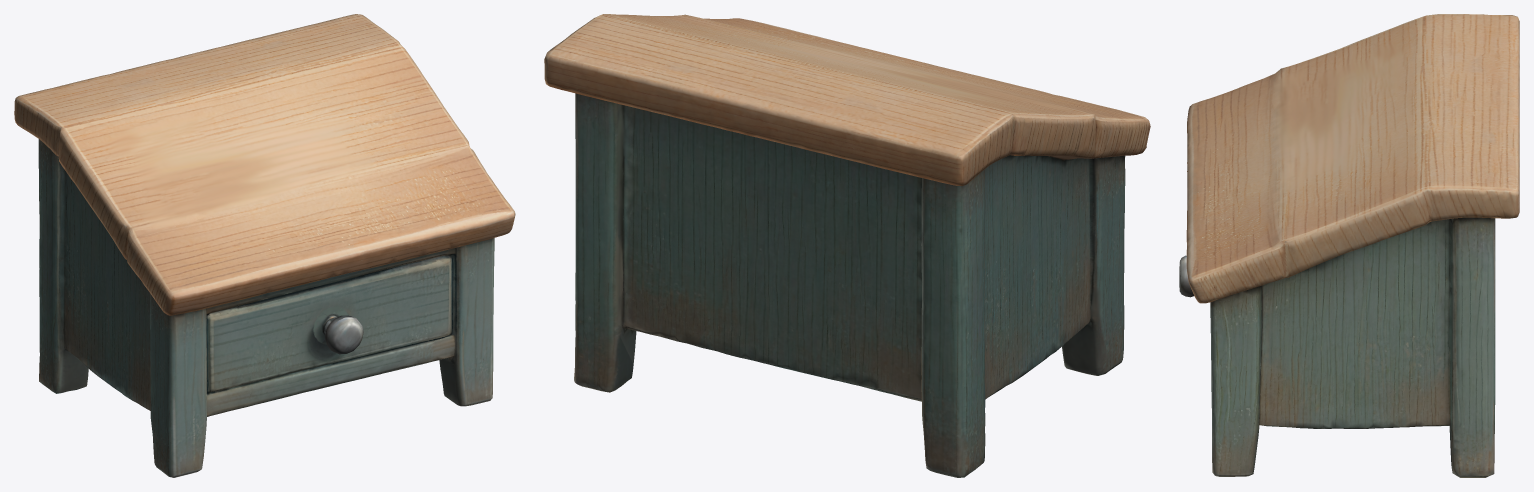
File: Furn_ChildDesk.fbx
The picture shows the model from 3 angles, left to right: view 1: azimuth 30°, elevation 25°; view 2: azimuth 150°, elevation 25°; view 3: azimuth 270°, elevation 25°; orthographic projection. The views are drawn at different scales.
Parts seen in each view (by area): view 1: texture_mapping; view 2: texture_mapping; view 3: texture_mapping.
Boxes of the visible parts, left/top/right/bottom form: texture_mapping: left=14, top=14, right=515, bottom=477; texture_mapping: left=544, top=14, right=1150, bottom=477; texture_mapping: left=1179, top=14, right=1519, bottom=477.
Bounding box in the file's own units: 1 × 0.8111 × 0.7809.
1 material, 1 textured.
